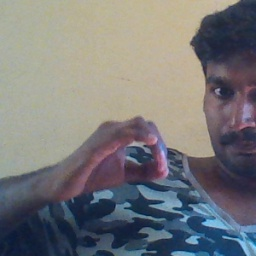O: (59, 114, 175, 204)
